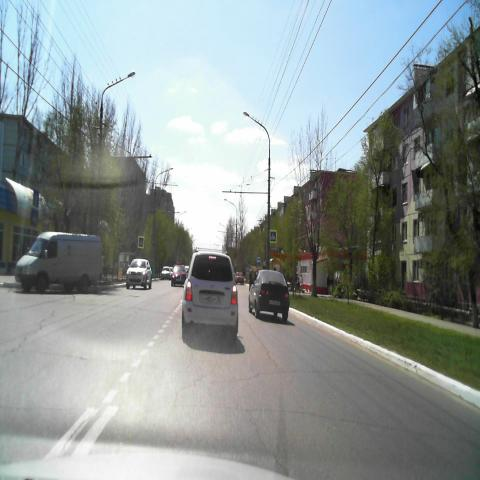5_16: (256, 255, 260, 267)
5_19_1: (31, 207, 38, 225), (270, 230, 277, 244), (138, 235, 144, 249)
5_5: (33, 188, 39, 206)
